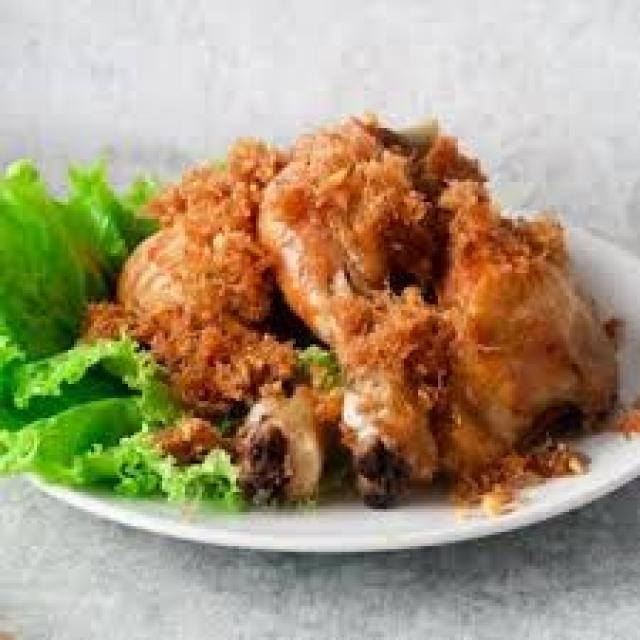ayam_goreng: (101, 91, 603, 504)
